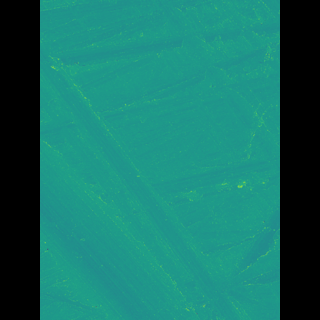Loch: (69, 31, 228, 319), (152, 0, 251, 201)
